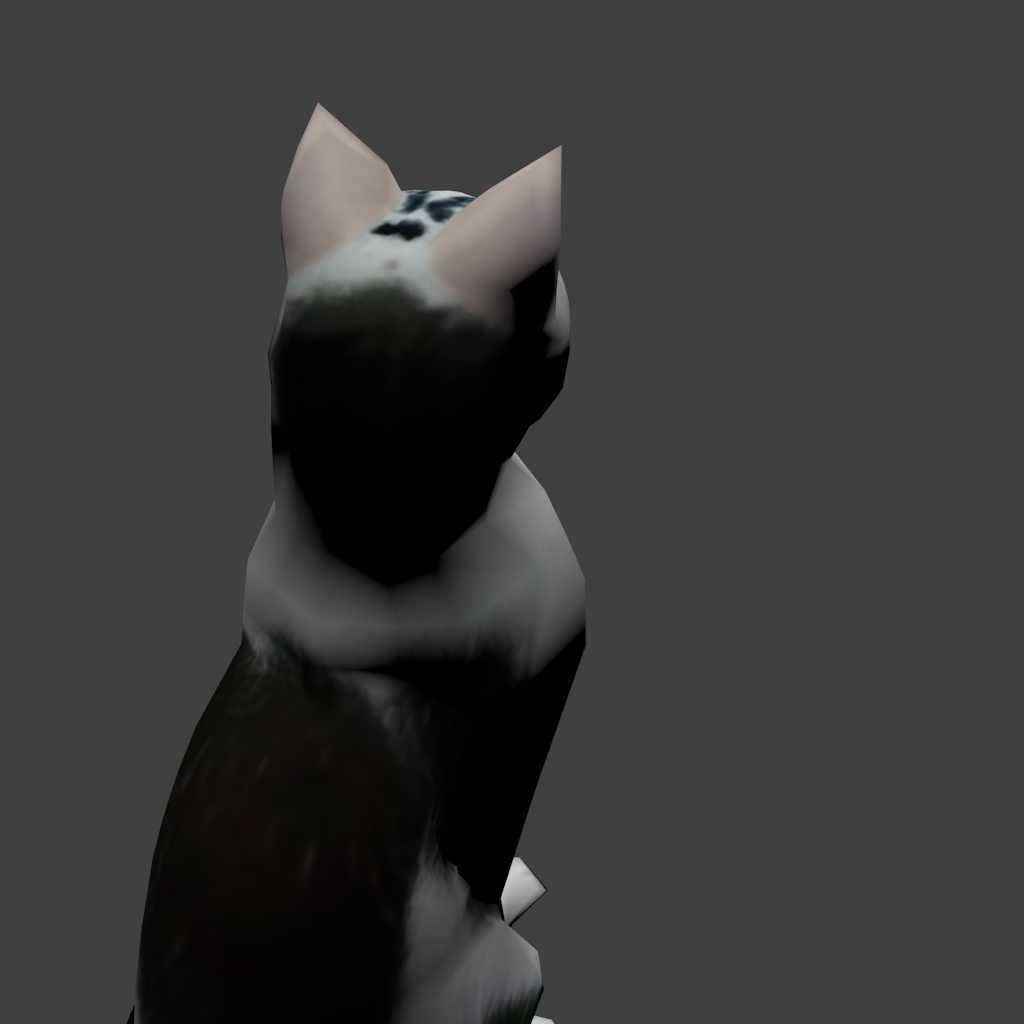Cat: (89, 103, 497, 921)
